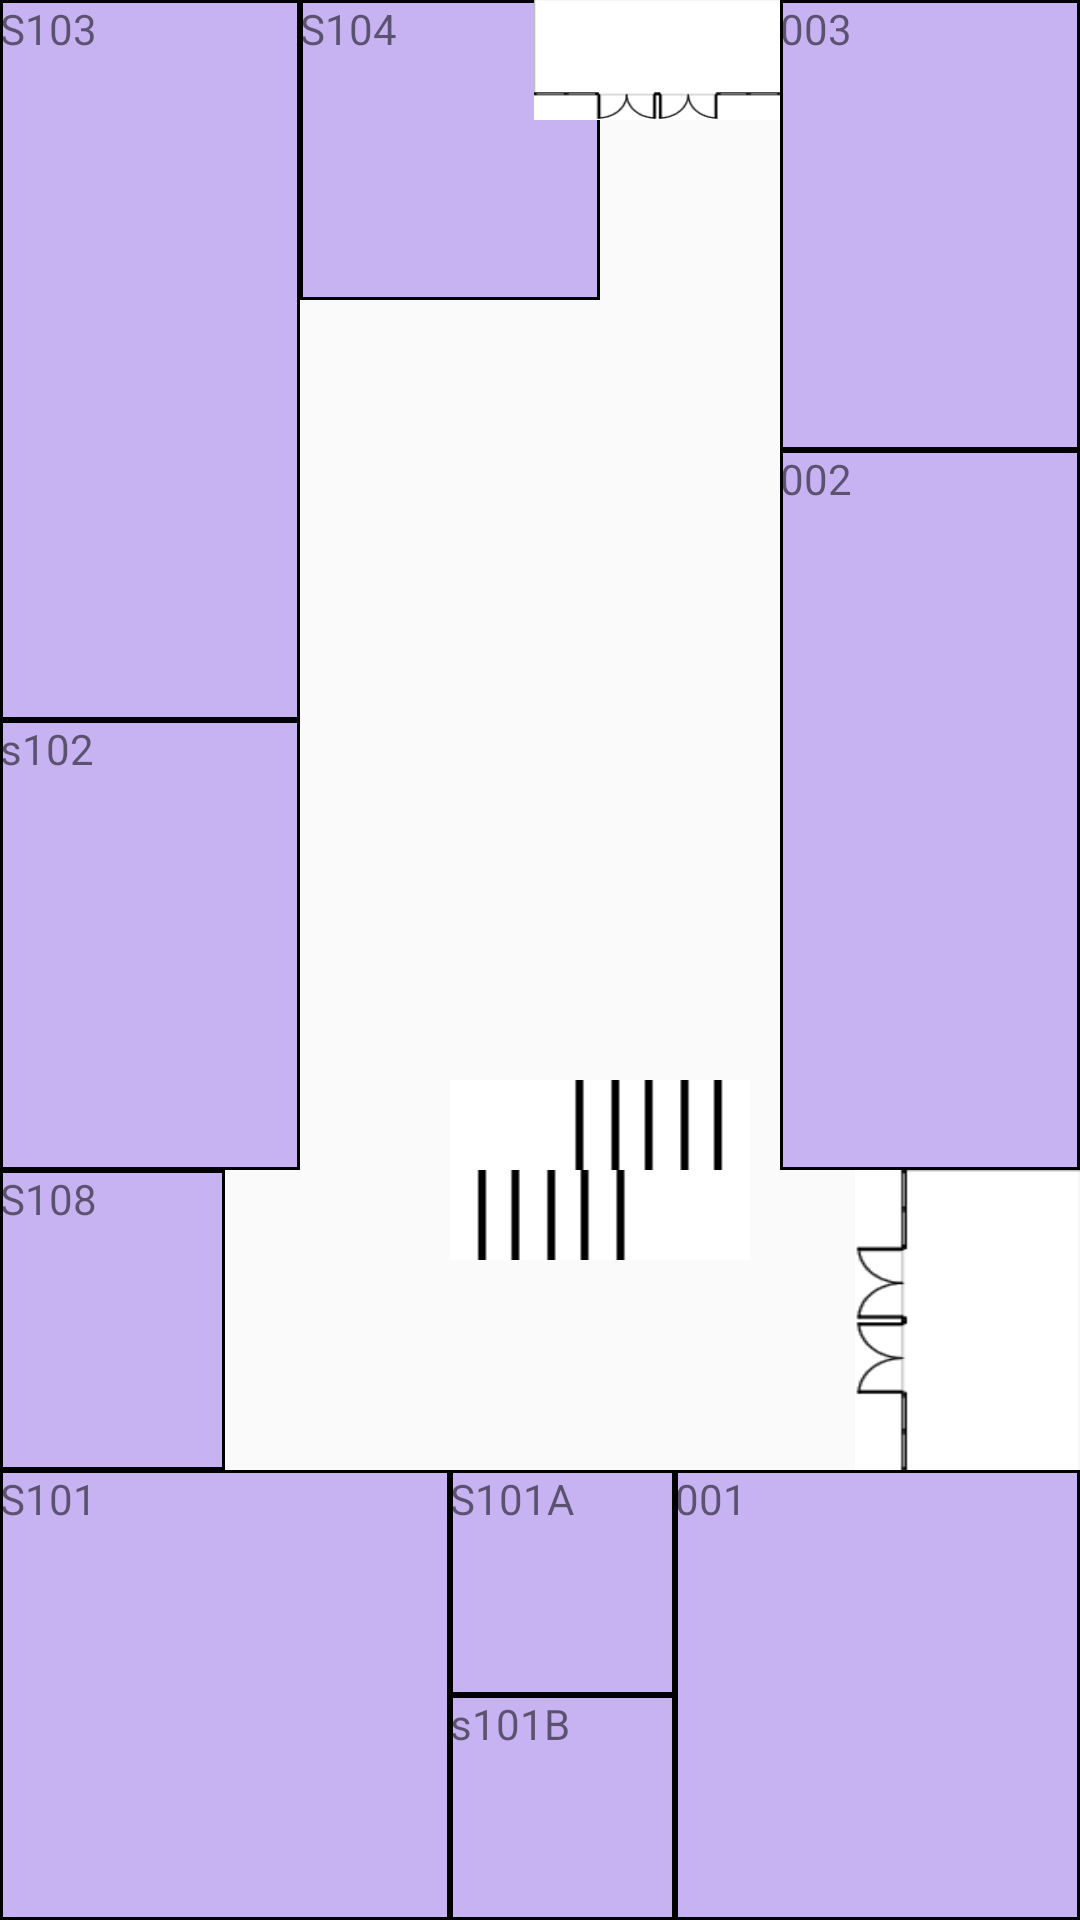

Icon click points for this 1080w x 1920h phone screenshot, format (x,y):
gates: (657,60), (967,1320)
